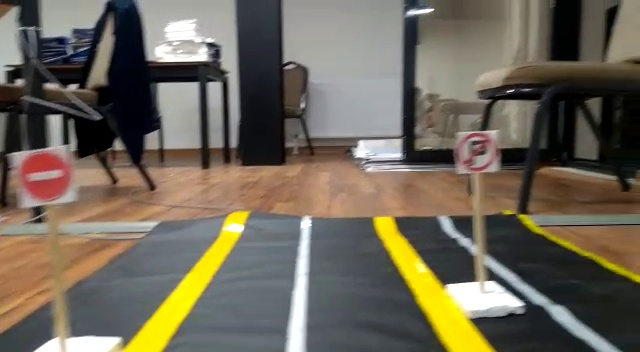girisi_olmayan_yol: (21, 144, 72, 202)
park_yapilmaz: (454, 132, 502, 172)
